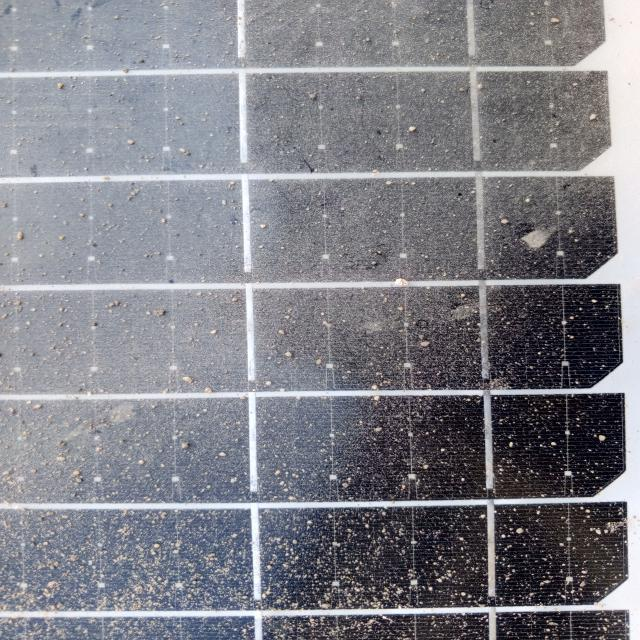Anomaly Solar Panel: (4, 0, 640, 640)
Surface Contaminant: (12, 0, 626, 640)
